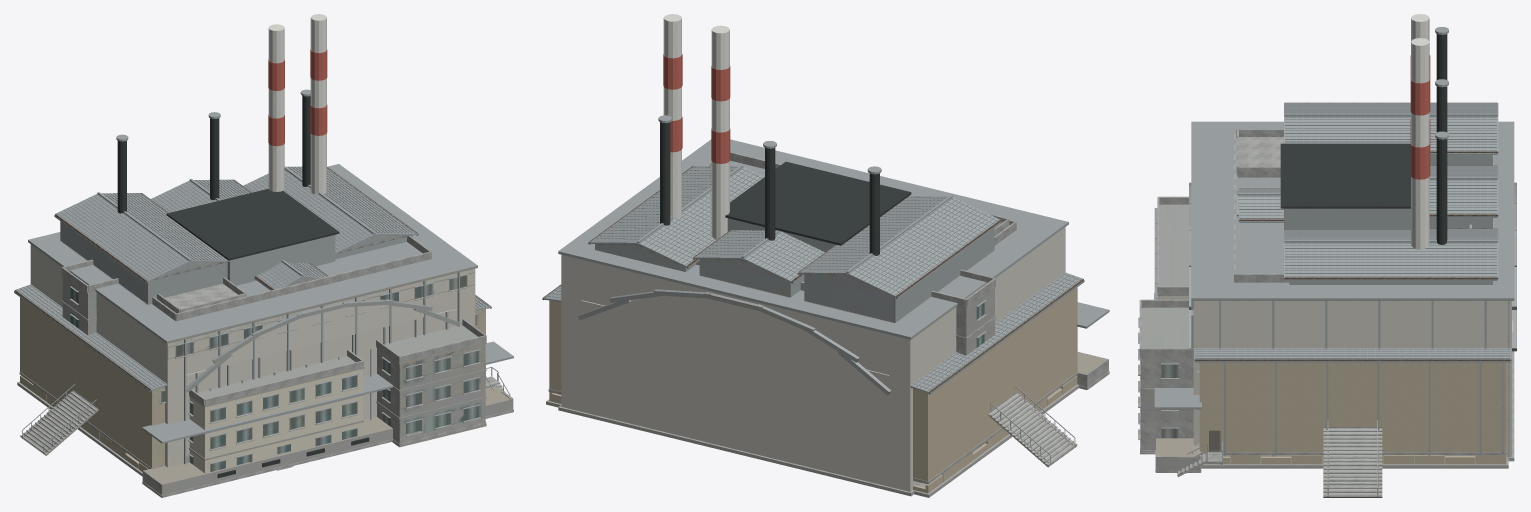
The model's file is building_04.glb.
3 renders of one model, left to right at view 1: azimuth 30°, elevation 25°; view 2: azimuth 150°, elevation 25°; view 3: azimuth 270°, elevation 25°, orthographic. The views are drawn at different scales.
Parts seen in each view (by area): view 1: building_100_normal_Metalwork, building_100_lod1_Cladding, building_089_normal_Cladding, building_094_normal_Metalwork, building_090_normal_Cladding, building_100_lod2_Cladding, building_094_normal_Cladding, building_089_normal_Metalwork, building_100_normal_Cladding, building_099_normal_Cladding, building_089_lod1_Cladding, building_081_normal_Structure (+19 smaller); view 2: building_100_normal_Cladding, building_100_normal_Metalwork, building_089_normal_Cladding, building_094_normal_Metalwork, building_100_lod1_Cladding, building_094_normal_Cladding, building_099_normal_Cladding, building_089_normal_Metalwork, building_099_lod1_Cladding, building_082_normal_Structure, building_081_normal_Structure, building_082_lod1_Cladding (+7 smaller); view 3: building_100_normal_Metalwork, building_089_normal_Cladding, building_100_normal_Cladding, building_094_normal_Metalwork, building_089_normal_Metalwork, building_100_normal_Structure, building_094_normal_Cladding, building_100_lod1_Cladding, building_082_normal_Structure, building_094_lod1_Cladding, building_090_lod1_Cladding, building_082_lod1_Cladding (+14 smaller).
Boxes of the visible parts, <box> form: building_100_normal_Metalwork: <box>28,89,480,464</box>; building_100_lod1_Cladding: <box>28,225,486,467</box>; building_089_normal_Cladding: <box>20,297,151,467</box>; building_094_normal_Metalwork: <box>167,188,339,285</box>; building_090_normal_Cladding: <box>189,369,362,473</box>; building_100_lod2_Cladding: <box>169,275,485,466</box>; building_094_normal_Cladding: <box>268,14,327,194</box>; building_089_normal_Metalwork: <box>14,284,513,478</box>; building_100_normal_Cladding: <box>30,244,167,467</box>; building_099_normal_Cladding: <box>186,305,456,375</box>; building_089_lod1_Cladding: <box>17,309,513,495</box>; building_081_normal_Structure: <box>61,236,431,321</box>; building_100_normal_Cladding: <box>561,227,1065,491</box>; building_100_normal_Metalwork: <box>558,115,1068,339</box>; building_089_normal_Cladding: <box>549,287,1077,481</box>; building_094_normal_Metalwork: <box>725,161,910,252</box>; building_100_lod1_Cladding: <box>558,244,1022,496</box>; building_094_normal_Cladding: <box>663,14,730,239</box>; building_099_normal_Cladding: <box>581,296,888,375</box>; building_089_normal_Metalwork: <box>542,272,1109,394</box>; building_099_lod1_Cladding: <box>578,289,891,395</box>; building_082_normal_Structure: <box>988,391,1077,465</box>; building_081_normal_Structure: <box>696,152,1016,355</box>; building_082_lod1_Cladding: <box>988,393,1077,467</box>; building_100_normal_Metalwork: <box>1138,27,1514,457</box>; building_089_normal_Cladding: <box>1199,362,1506,451</box>; building_100_normal_Cladding: <box>1193,301,1511,456</box>; building_094_normal_Metalwork: <box>1280,143,1410,206</box>; building_089_normal_Metalwork: <box>1154,208,1511,473</box>; building_100_normal_Structure: <box>1138,155,1514,460</box>; building_094_normal_Cladding: <box>1410,14,1430,249</box>; building_100_lod1_Cladding: <box>1140,156,1514,461</box>; building_082_normal_Structure: <box>1323,427,1382,496</box>; building_094_lod1_Cladding: <box>1280,14,1428,229</box>; building_090_lod1_Cladding: <box>1157,204,1188,299</box>; building_082_lod1_Cladding: <box>1323,428,1382,497</box>.
Bounding box in the file's own units: 50.07 × 36.09 × 32.1.
59 materials, 58 textured.
